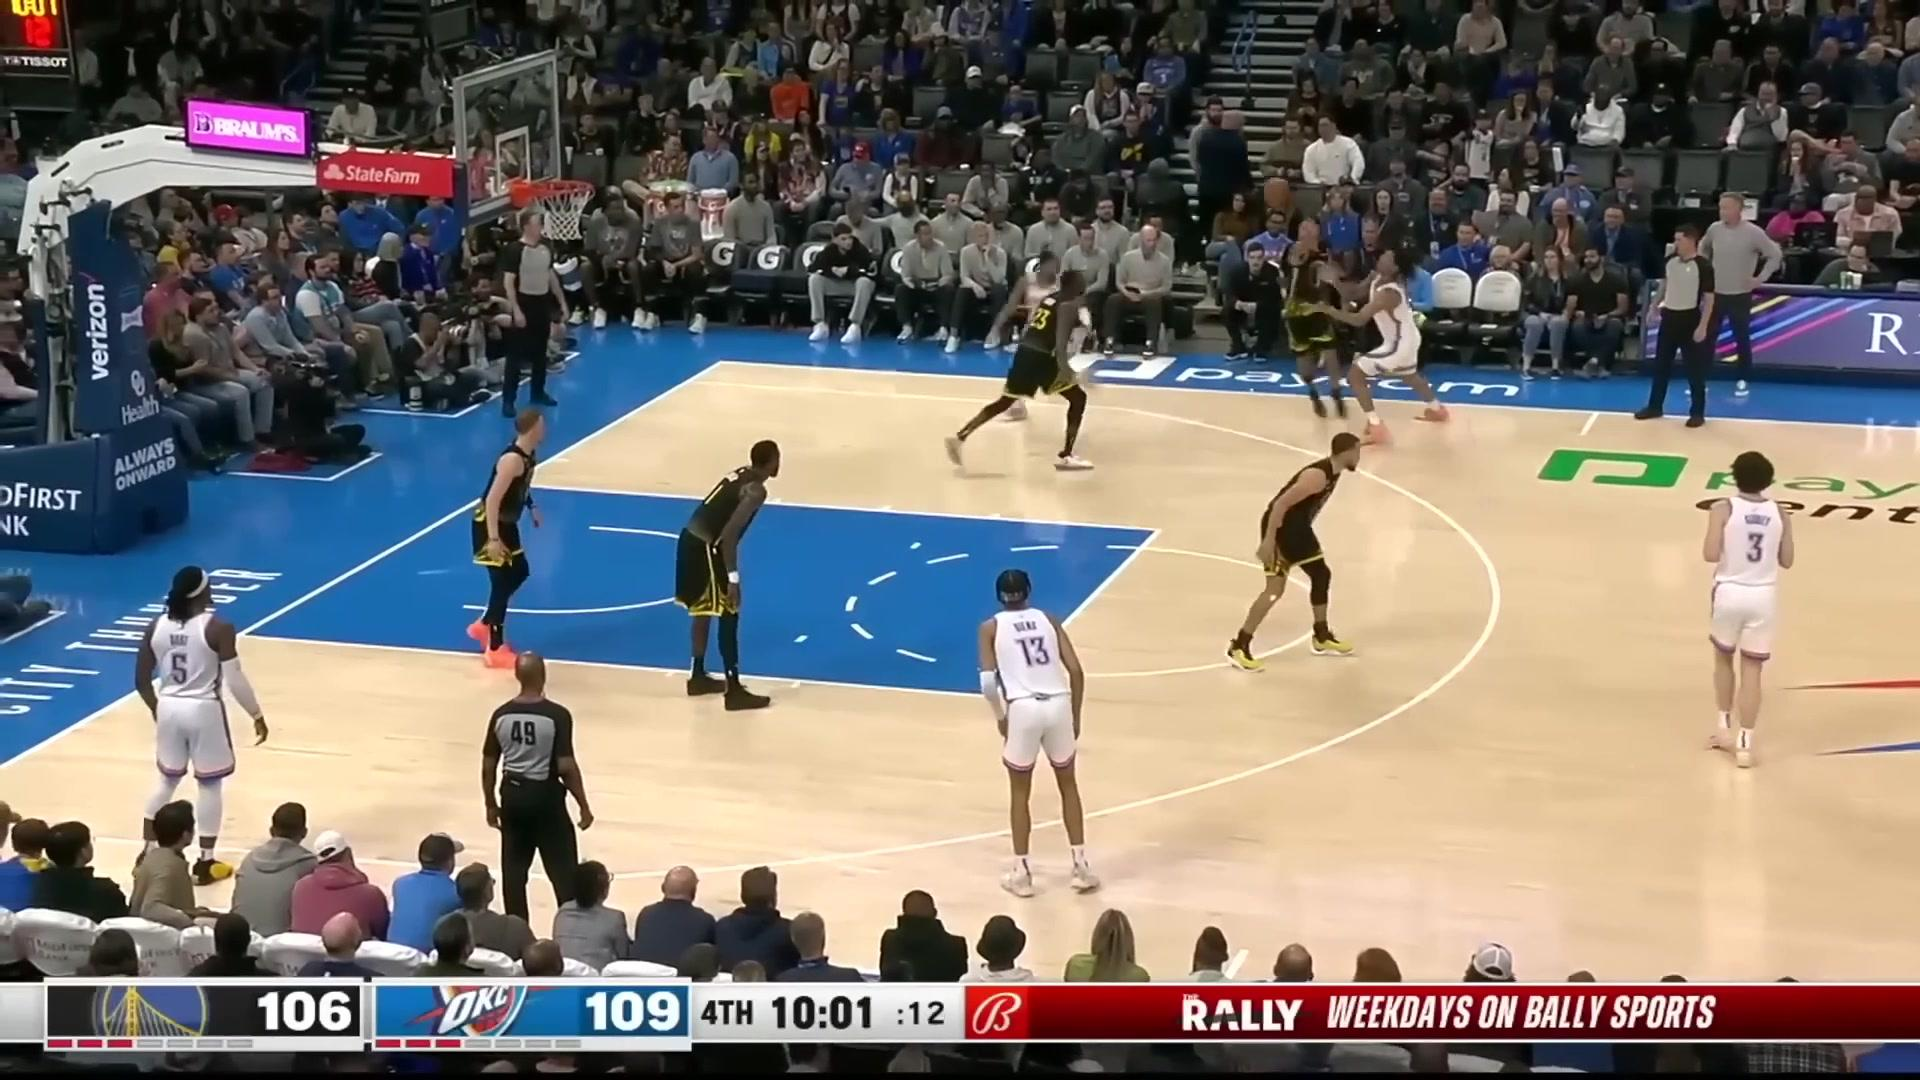foul: (1254, 241, 1470, 450)
